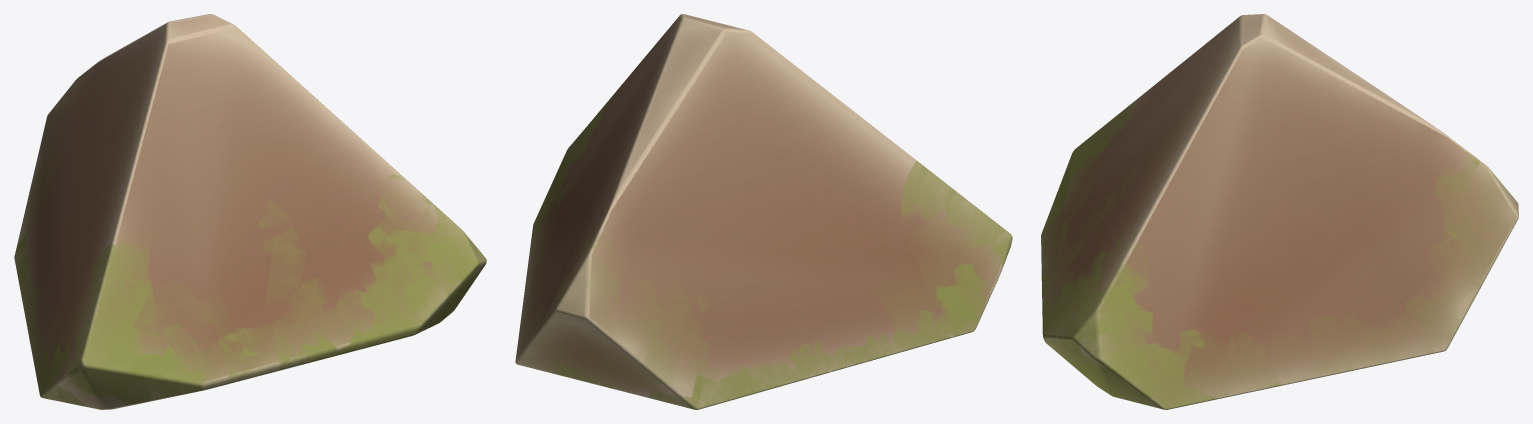
The model's file is Rock Type 3.fbx.
The picture shows the model from 3 angles, left to right: view 1: azimuth 30°, elevation 25°; view 2: azimuth 150°, elevation 25°; view 3: azimuth 270°, elevation 25°; orthographic projection. The views are drawn at different scales.
Parts seen in each view (by area): view 1: Cube.042; view 2: Cube.042; view 3: Cube.042.
Boxes of the visible parts, box(x1,y1,x2,y2) form: Cube.042: box(14, 14, 486, 409); Cube.042: box(515, 14, 1012, 409); Cube.042: box(1041, 14, 1518, 409).
Bounding box in the file's own units: 2454 × 1613 × 2431.
